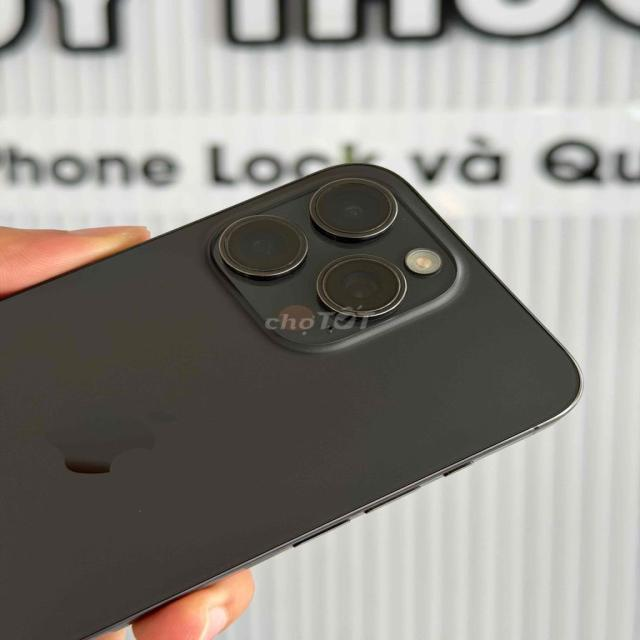gen_15: (0, 149, 588, 640)
